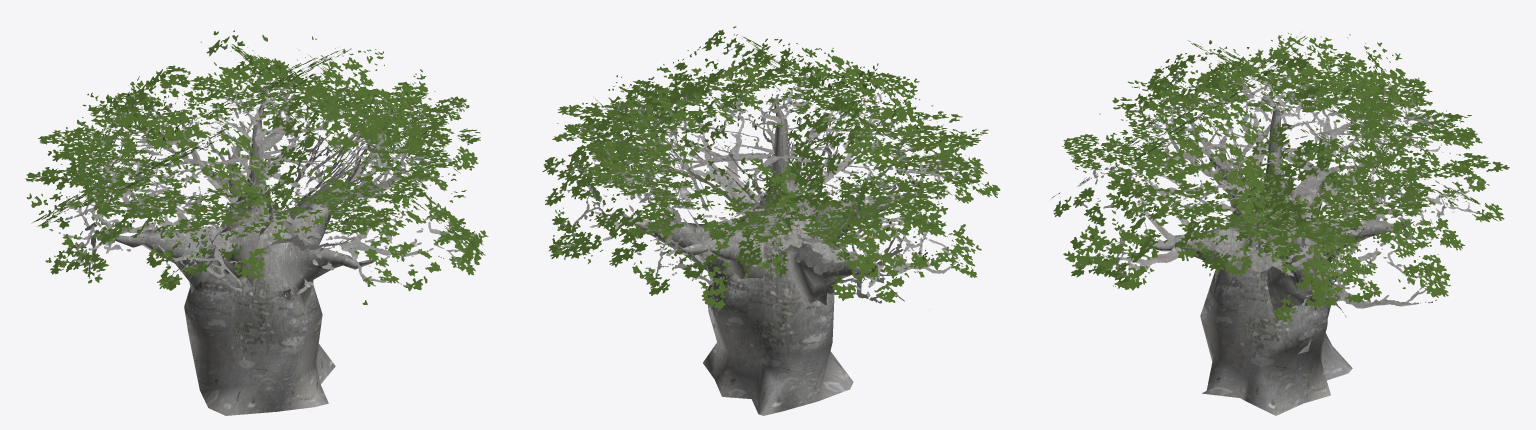
File: tree-1-1.glb
The picture shows the model from 3 angles, left to right: view 1: azimuth 30°, elevation 25°; view 2: azimuth 150°, elevation 25°; view 3: azimuth 270°, elevation 25°; orthographic projection.
Visible parts, largest first — view 1: leaves-lod1, trunk-lod1; view 2: leaves-lod1, trunk-lod1; view 3: leaves-lod1, trunk-lod1.
Part boxes in pixels (x1,y1,x2,y2): leaves-lod1: (25,30,488,304); trunk-lod1: (102,105,374,415); leaves-lod1: (542,26,1000,308); trunk-lod1: (622,103,911,415); leaves-lod1: (1052,33,1509,322); trunk-lod1: (1150,102,1414,415).
Bounding box in the file's own units: 22.33 × 16.75 × 21.11.
2 materials, 2 textured.
